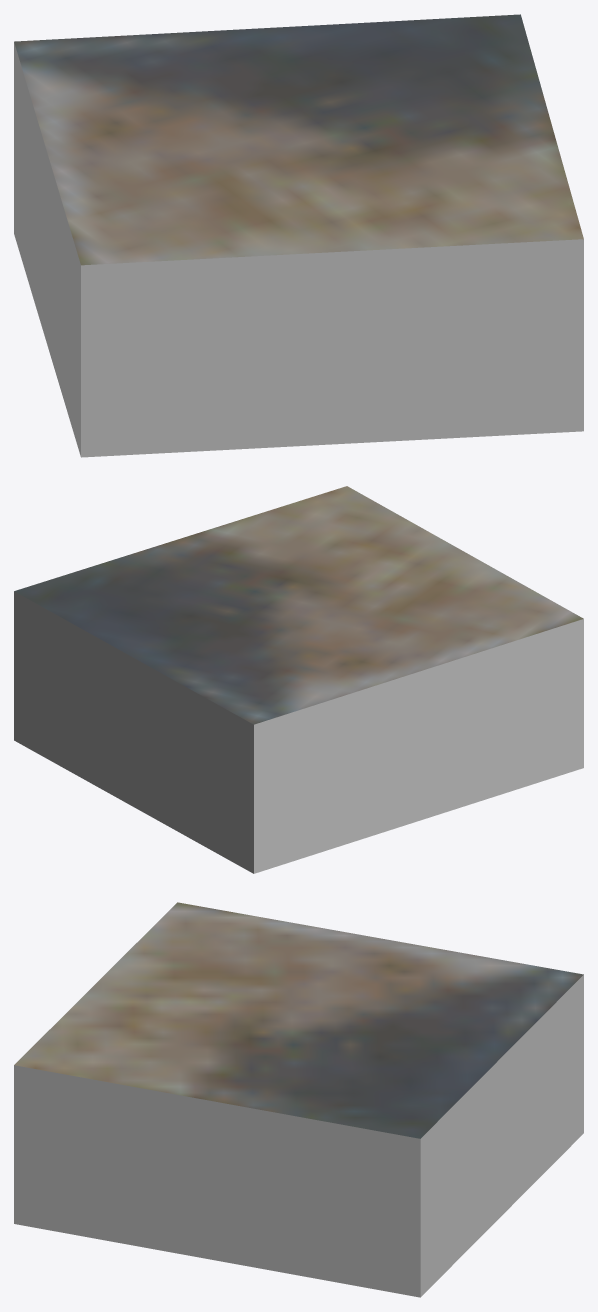
The model's file is DEBW_0010007Txf9.gltf.
The picture shows the model from 3 angles, top to bottom: view 1: azimuth 30°, elevation 25°; view 2: azimuth 150°, elevation 25°; view 3: azimuth 270°, elevation 25°; orthographic projection. The views are drawn at different scales.
Visible parts, largest first — view 1: Z_UP; view 2: Z_UP; view 3: Z_UP.
Boxes of the visible parts, <box> form: Z_UP: <box>14,14,583,457</box>; Z_UP: <box>14,486,583,873</box>; Z_UP: <box>14,902,583,1297</box>.
Bounding box in the file's own units: 7.67 × 2.4 × 7.81.
2 materials, 1 textured.
